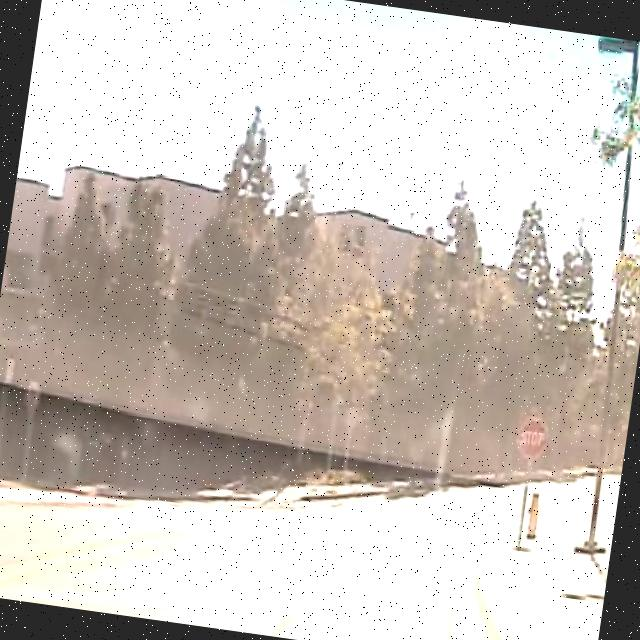Stop: (512, 412, 552, 464)
